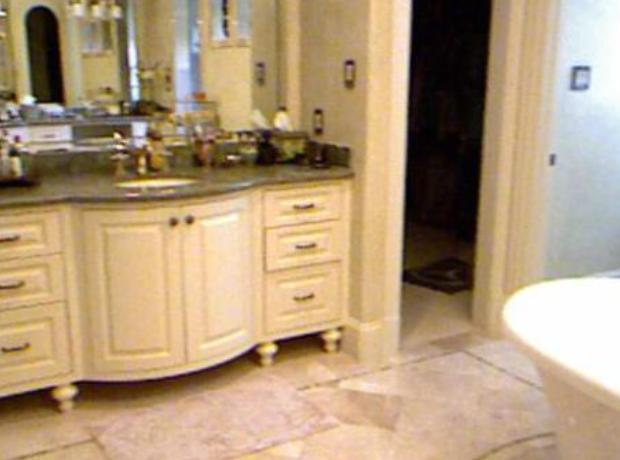Lavamanos: (92, 126, 214, 202)
